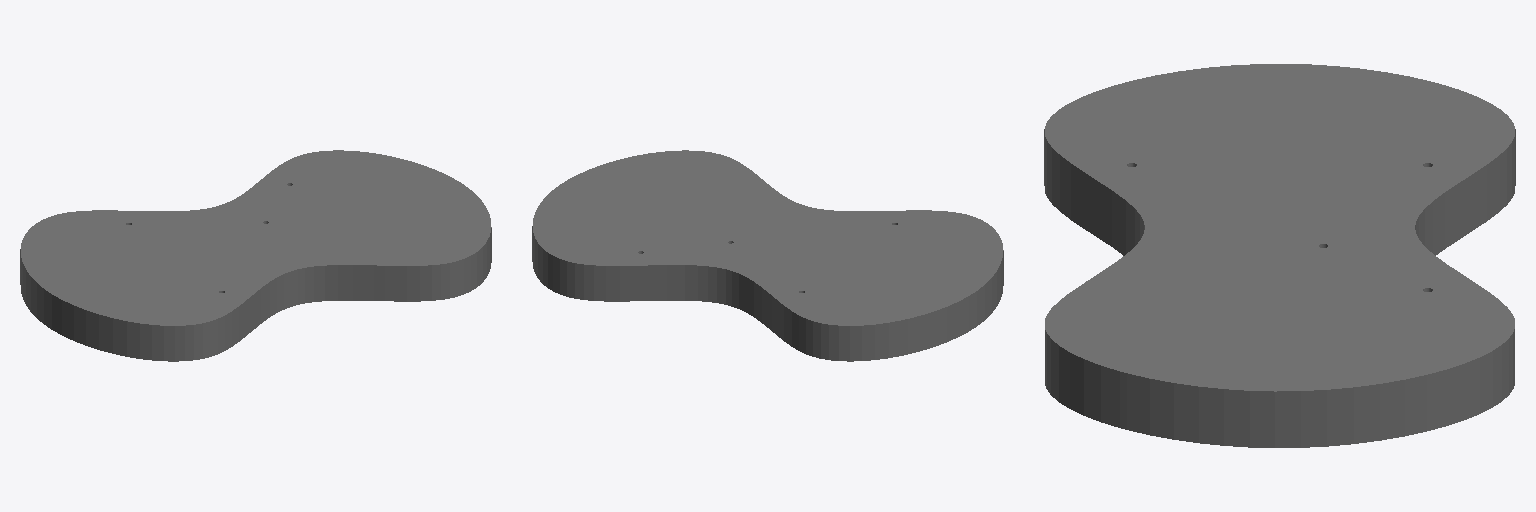
URDF robot description (push_object):
<?xml version="1.0" ?>
<robot name="push_object">
  <link name="link_x">
    <inertial>
      <mass value="0"/>
      <inertia ixx="0.0" ixy="0.0" ixz="0.0" iyy="0.0" iyz="0.0" izz="0.0"/>
    </inertial>
  </link>

  <link name="link_y">
    <inertial>
      <mass value="0"/>
      <inertia ixx="0.0" ixy="0.0" ixz="0.0" iyy="0.0" iyz="0.0" izz="0.0"/>
    </inertial>
  </link>
  
  <link name="link_z">
    <inertial>
      <mass value="0"/>
      <inertia ixx="0.0" ixy="0.0" ixz="0.0" iyy="0.0" iyz="0.0" izz="0.0"/>
    </inertial>
  </link>
  
  <link name="link_yaw">
    <inertial>
      <mass value="0"/>
      <inertia ixx="0.0" ixy="0.0" ixz="0.0" iyy="0.0" iyz="0.0" izz="0.0"/>
    </inertial>
  </link>

  <link name="link_object">
    <contact>
      <rolling_friction value="0.03"/>
      <spinning_friction value="0.03"/>
    </contact>

    <inertial>
      <origin rpy="0 0 0" xyz="0 0 0"/>
       <mass value="0.006350"/>
       <inertia ixx="1.197000" ixy="0" ixz="0" iyy="0.002950" iyz="0" izz="1"/>
    </inertial>
    <visual>
      <origin rpy="0 0 0" xyz="0 0 0.002950"/>
      <geometry>
        <mesh filename="butter.obj" scale="1.0 1.0 1.0"/>      
      </geometry>
      <material name="gray">
        <color rgba="0.5 0.5 0.5 1"/>
        <specular rgb="1 1 1"/>
      </material>
    </visual>
    
    <collision>
      <origin rpy="0 0 0" xyz="-0.0600 -0.0400 -0.0063"/>
      <geometry>
        <sphere radius="0.0065"/>
      </geometry>
    </collision>
        
    <collision>
      <origin rpy="0 0 0" xyz="-0.0600 -0.0200 -0.0063"/>
      <geometry>
        <sphere radius="0.0065"/>
      </geometry>
    </collision>
        
    <collision>
      <origin rpy="0 0 0" xyz="-0.0600 0.0000 -0.0063"/>
      <geometry>
        <sphere radius="0.0065"/>
      </geometry>
    </collision>
        
    <collision>
      <origin rpy="0 0 0" xyz="-0.0600 0.0200 -0.0063"/>
      <geometry>
        <sphere radius="0.0065"/>
      </geometry>
    </collision>
        
    <collision>
      <origin rpy="0 0 0" xyz="-0.0600 0.0400 -0.0063"/>
      <geometry>
        <sphere radius="0.0065"/>
      </geometry>
    </collision>
        
    <collision>
      <origin rpy="0 0 0" xyz="-0.0400 -0.0400 -0.0063"/>
      <geometry>
        <sphere radius="0.0065"/>
      </geometry>
    </collision>
        
    <collision>
      <origin rpy="0 0 0" xyz="-0.0400 -0.0200 -0.0063"/>
      <geometry>
        <sphere radius="0.0065"/>
      </geometry>
    </collision>
        
    <collision>
      <origin rpy="0 0 0" xyz="-0.0400 0.0000 -0.0063"/>
      <geometry>
        <sphere radius="0.0065"/>
      </geometry>
    </collision>
        
    <collision>
      <origin rpy="0 0 0" xyz="-0.0400 0.0200 -0.0063"/>
      <geometry>
        <sphere radius="0.0065"/>
      </geometry>
    </collision>
        
    <collision>
      <origin rpy="0 0 0" xyz="-0.0400 0.0400 -0.0063"/>
      <geometry>
        <sphere radius="0.0065"/>
      </geometry>
    </collision>
        
    <collision>
      <origin rpy="0 0 0" xyz="-0.0200 -0.0200 -0.0063"/>
      <geometry>
        <sphere radius="0.0065"/>
      </geometry>
    </collision>
        
    <collision>
      <origin rpy="0 0 0" xyz="-0.0200 0.0000 -0.0063"/>
      <geometry>
        <sphere radius="0.0065"/>
      </geometry>
    </collision>
        
    <collision>
      <origin rpy="0 0 0" xyz="-0.0200 0.0200 -0.0063"/>
      <geometry>
        <sphere radius="0.0065"/>
      </geometry>
    </collision>
        
    <collision>
      <origin rpy="0 0 0" xyz="0.0000 -0.0200 -0.0063"/>
      <geometry>
        <sphere radius="0.0065"/>
      </geometry>
    </collision>
        
    <collision>
      <origin rpy="0 0 0" xyz="0.0000 0.0000 -0.0063"/>
      <geometry>
        <sphere radius="0.0065"/>
      </geometry>
    </collision>
        
    <collision>
      <origin rpy="0 0 0" xyz="0.0000 0.0200 -0.0063"/>
      <geometry>
        <sphere radius="0.0065"/>
      </geometry>
    </collision>
        
    <collision>
      <origin rpy="0 0 0" xyz="0.0200 -0.0200 -0.0063"/>
      <geometry>
        <sphere radius="0.0065"/>
      </geometry>
    </collision>
        
    <collision>
      <origin rpy="0 0 0" xyz="0.0200 0.0000 -0.0063"/>
      <geometry>
        <sphere radius="0.0065"/>
      </geometry>
    </collision>
        
    <collision>
      <origin rpy="0 0 0" xyz="0.0200 0.0200 -0.0063"/>
      <geometry>
        <sphere radius="0.0065"/>
      </geometry>
    </collision>
        
    <collision>
      <origin rpy="0 0 0" xyz="0.0400 -0.0400 -0.0063"/>
      <geometry>
        <sphere radius="0.0065"/>
      </geometry>
    </collision>
        
    <collision>
      <origin rpy="0 0 0" xyz="0.0400 -0.0200 -0.0063"/>
      <geometry>
        <sphere radius="0.0065"/>
      </geometry>
    </collision>
        
    <collision>
      <origin rpy="0 0 0" xyz="0.0400 0.0000 -0.0063"/>
      <geometry>
        <sphere radius="0.0065"/>
      </geometry>
    </collision>
        
    <collision>
      <origin rpy="0 0 0" xyz="0.0400 0.0200 -0.0063"/>
      <geometry>
        <sphere radius="0.0065"/>
      </geometry>
    </collision>
        
    <collision>
      <origin rpy="0 0 0" xyz="0.0400 0.0400 -0.0063"/>
      <geometry>
        <sphere radius="0.0065"/>
      </geometry>
    </collision>
        
    <collision>
      <origin rpy="0 0 0" xyz="0.0600 -0.0400 -0.0063"/>
      <geometry>
        <sphere radius="0.0065"/>
      </geometry>
    </collision>
        
    <collision>
      <origin rpy="0 0 0" xyz="0.0600 -0.0200 -0.0063"/>
      <geometry>
        <sphere radius="0.0065"/>
      </geometry>
    </collision>
        
    <collision>
      <origin rpy="0 0 0" xyz="0.0600 0.0000 -0.0063"/>
      <geometry>
        <sphere radius="0.0065"/>
      </geometry>
    </collision>
        
    <collision>
      <origin rpy="0 0 0" xyz="0.0600 0.0200 -0.0063"/>
      <geometry>
        <sphere radius="0.0065"/>
      </geometry>
    </collision>
        
    <collision>
      <origin rpy="0 0 0" xyz="0.0600 0.0400 -0.0063"/>
      <geometry>
        <sphere radius="0.0065"/>
      </geometry>
    </collision>
        
  </link>
  
  <joint name="joint_x" type="prismatic">
    <axis xyz="1 0 0"/>
    <origin xyz="0.0 0.0 0"/>
    <parent link="link_x"/>
    <child link="link_y"/>
    <limit effort="1000.0" lower="-15" upper="15" velocity="5"/>
  </joint>

  <joint name="joint_y" type="prismatic">
    <axis xyz="0 1 0"/>
    <origin xyz="0.0 0.0 0"/>
    <parent link="link_y"/>
    <child link="link_z"/>
    <limit effort="1000.0" lower="-15" upper="15" velocity="5"/>
  </joint>

  <joint name="joint_z" type="prismatic">
    <axis xyz="0 0 1"/>
    <origin xyz="0.0 0.0 0"/>
    <parent link="link_z"/>
    <child link="link_yaw"/>
    <limit effort="1000.0" lower="-15" upper="15" velocity="5"/>
  </joint>

  <joint name="joint_yaw" type="continuous">
    <axis xyz="0 0 1"/>
    <origin xyz="0.0 0.0 0"/>
    <parent link="link_yaw"/>
    <child link="link_object"/>
  </joint>
</robot>

--- What the picture shows (computed from the rendered views, not written in the file) ---
3 views of the same robot in one strip: view 1: azimuth 30°, elevation 25°; view 2: azimuth 150°, elevation 25°; view 3: azimuth 270°, elevation 25° (orthographic).
Model push_object with 5 links and 4 joints (1 continuous, 3 prismatic), rooted at link_x, posed all joints at 0.
Links seen in each view (by area): view 1: link_object; view 2: link_object; view 3: link_object.
Boxes of the visible links, x1,y1,x2,y2 form: link_object: (20, 150, 491, 361); link_object: (532, 150, 1003, 361); link_object: (1044, 64, 1515, 447).
Size in the robot's own frame: 0.1573 by 0.0955 by 0.0127 metres.
Meshes: 1 distinct files referenced, 1 mesh visuals loaded (1 OBJ).